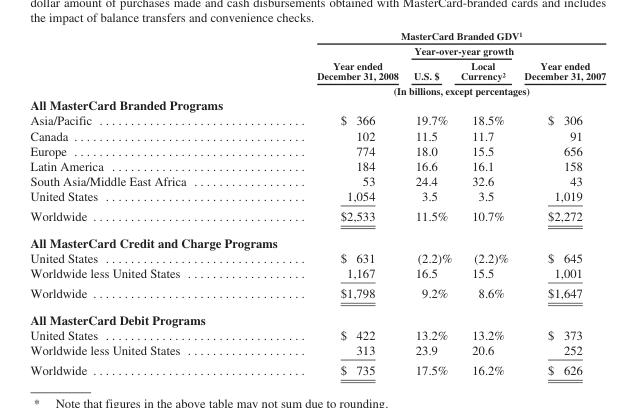table: (29, 29, 605, 377)
table column: (29, 29, 251, 377), (251, 29, 405, 377), (518, 29, 605, 377), (455, 29, 518, 377), (405, 29, 455, 377)
table column header: (29, 29, 605, 96)
table projected row header: (29, 229, 605, 250), (29, 306, 605, 327), (29, 96, 605, 112)
table row: (29, 57, 605, 83), (29, 206, 605, 229), (29, 283, 605, 306), (29, 229, 605, 250), (29, 306, 605, 327), (29, 188, 605, 206), (29, 265, 605, 283), (29, 342, 605, 360), (29, 360, 605, 377), (29, 96, 605, 112), (29, 142, 605, 158), (29, 42, 605, 57), (29, 112, 605, 127), (29, 127, 605, 142), (29, 158, 605, 173), (29, 173, 605, 188), (29, 250, 605, 265), (29, 327, 605, 342), (29, 29, 605, 42), (29, 83, 605, 96)
table spanning cell: (251, 42, 405, 83), (251, 29, 605, 42), (251, 83, 605, 96), (518, 42, 605, 83), (405, 42, 518, 57)
